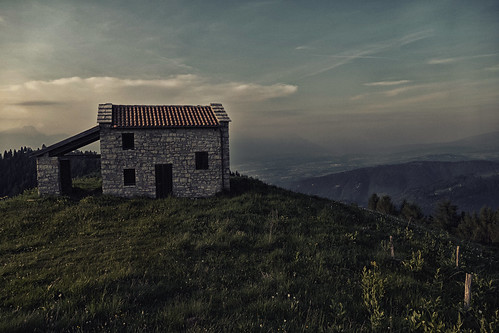low: (95, 100, 235, 203)
